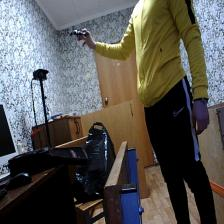drone: (68, 26, 92, 44)
